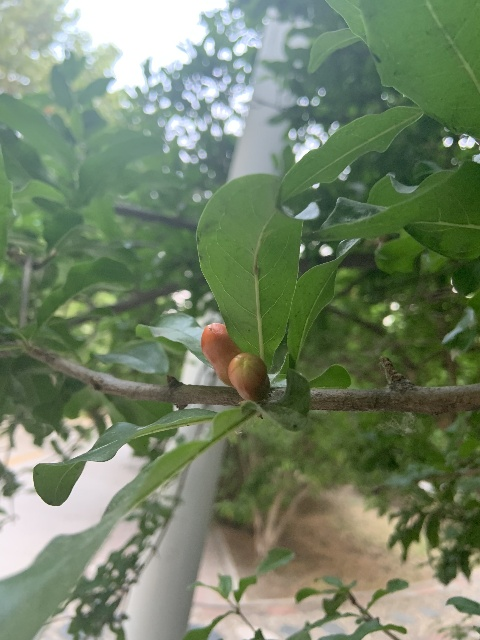bud: (200, 322, 244, 388), (229, 352, 267, 402)
